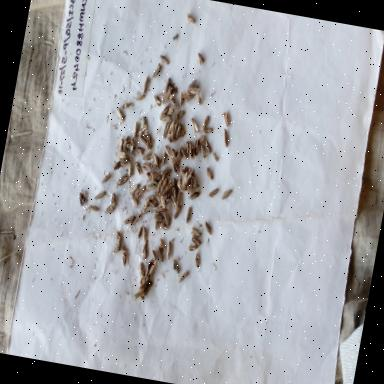pbw: (187, 112, 202, 136), (220, 128, 234, 151), (156, 48, 172, 68), (201, 218, 215, 240), (194, 46, 207, 69), (201, 139, 215, 160), (114, 172, 130, 190), (152, 198, 166, 218), (131, 284, 145, 304), (119, 247, 131, 270), (188, 225, 204, 242), (139, 227, 154, 245), (135, 262, 147, 284), (138, 240, 150, 262), (163, 239, 174, 263), (220, 110, 233, 130), (114, 104, 127, 124), (108, 190, 124, 206), (176, 184, 190, 202), (98, 170, 112, 188), (219, 186, 233, 204), (121, 96, 135, 114), (200, 112, 211, 134), (143, 260, 154, 282), (144, 280, 156, 300), (206, 187, 222, 202), (170, 256, 182, 276), (204, 164, 216, 184), (162, 180, 174, 200), (150, 93, 164, 110), (154, 247, 167, 265), (160, 142, 173, 160), (185, 76, 198, 94), (123, 210, 136, 228), (140, 74, 151, 95), (147, 259, 159, 278), (161, 207, 173, 226), (182, 206, 194, 225), (92, 187, 106, 203), (130, 120, 140, 142), (194, 92, 206, 110), (178, 268, 190, 286), (128, 181, 140, 199), (159, 89, 171, 107), (190, 174, 202, 192), (156, 179, 166, 200), (184, 11, 198, 26), (123, 140, 136, 156), (104, 200, 117, 216), (172, 180, 180, 205), (192, 138, 202, 158), (192, 252, 202, 272), (144, 134, 155, 152), (151, 64, 162, 82), (170, 150, 184, 164), (86, 202, 100, 216), (158, 166, 172, 180), (146, 170, 160, 184), (198, 144, 210, 160), (136, 182, 148, 198), (156, 236, 168, 252), (112, 230, 124, 246), (132, 162, 144, 178), (125, 161, 135, 180), (130, 213, 140, 232), (158, 106, 169, 123), (190, 236, 204, 249), (169, 124, 178, 144), (172, 204, 182, 222), (128, 195, 140, 210), (174, 123, 183, 143), (140, 198, 149, 218), (166, 119, 176, 137), (134, 90, 145, 106), (158, 152, 168, 169), (180, 170, 190, 187), (112, 244, 124, 258), (174, 108, 186, 122), (148, 248, 160, 262), (179, 147, 190, 162), (135, 141, 146, 156), (161, 122, 170, 140), (176, 92, 186, 108), (150, 152, 160, 168), (169, 176, 177, 196), (114, 150, 127, 162), (190, 83, 201, 97), (196, 134, 207, 148), (210, 148, 221, 162), (188, 140, 196, 159), (168, 196, 178, 211), (169, 81, 179, 96), (120, 135, 129, 151), (146, 182, 158, 194), (146, 199, 158, 211), (112, 160, 124, 172), (136, 135, 148, 147), (128, 136, 137, 152), (164, 76, 172, 94), (174, 192, 182, 210), (137, 125, 148, 138), (152, 213, 165, 224), (170, 162, 180, 176), (185, 166, 193, 183), (136, 225, 144, 242), (153, 217, 162, 232), (204, 124, 215, 136), (187, 244, 199, 255), (188, 191, 200, 202), (168, 98, 179, 110), (184, 92, 194, 105), (166, 92, 176, 105), (176, 178, 184, 194), (117, 137, 125, 153), (138, 116, 146, 132), (161, 113, 173, 123), (142, 162, 152, 174), (142, 152, 152, 164), (182, 91, 193, 101), (145, 194, 156, 204), (144, 174, 153, 186), (167, 106, 176, 118), (178, 167, 186, 180), (160, 225, 170, 235), (150, 178, 160, 187), (124, 155, 134, 162)
